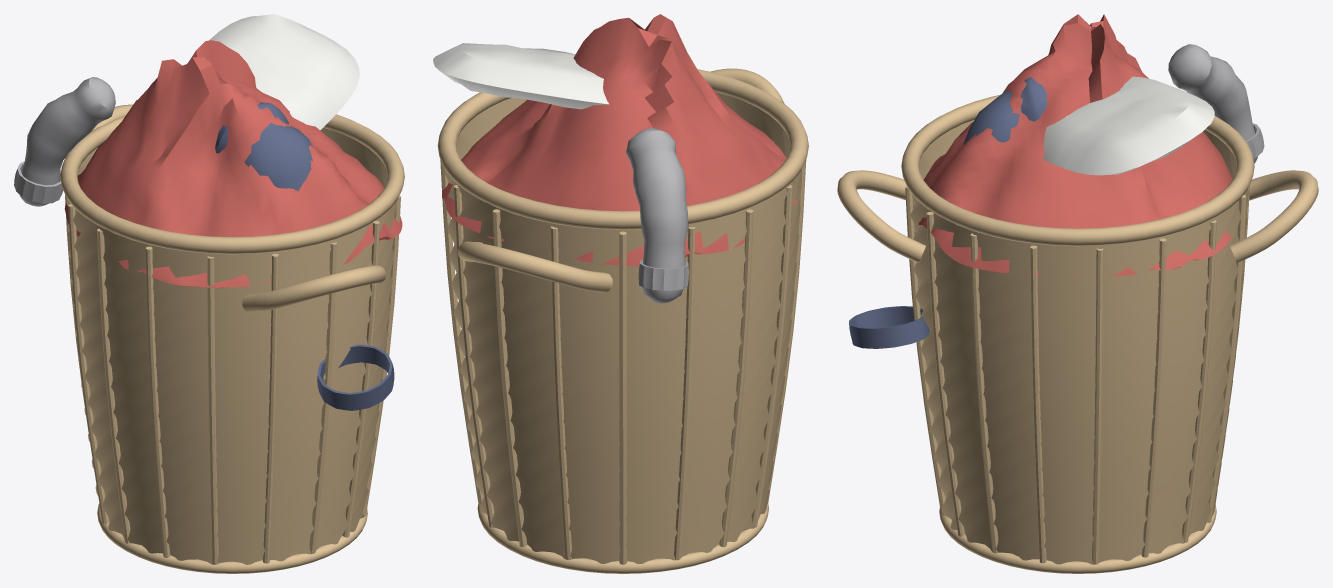
File: textiles_laundry_basket_full.fbx
The picture shows the model from 3 angles, left to right: view 1: azimuth 30°, elevation 25°; view 2: azimuth 150°, elevation 25°; view 3: azimuth 270°, elevation 25°; orthographic projection. The views are drawn at different scales.
Visible parts, largest first — view 1: textiles_laundry_basket_full; view 2: textiles_laundry_basket_full; view 3: textiles_laundry_basket_full.
Part boxes in pixels (x1,y1,x2,y2): textiles_laundry_basket_full: (14,14,404,573); textiles_laundry_basket_full: (433,14,808,573); textiles_laundry_basket_full: (837,14,1318,573).
Bounding box in the file's own units: 0.438 × 0.6643 × 0.5966.
